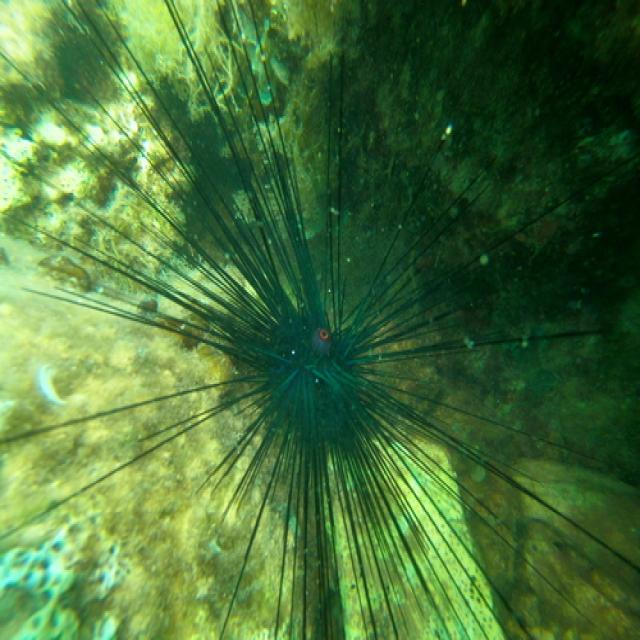Urchin: (2, 1, 635, 632)
